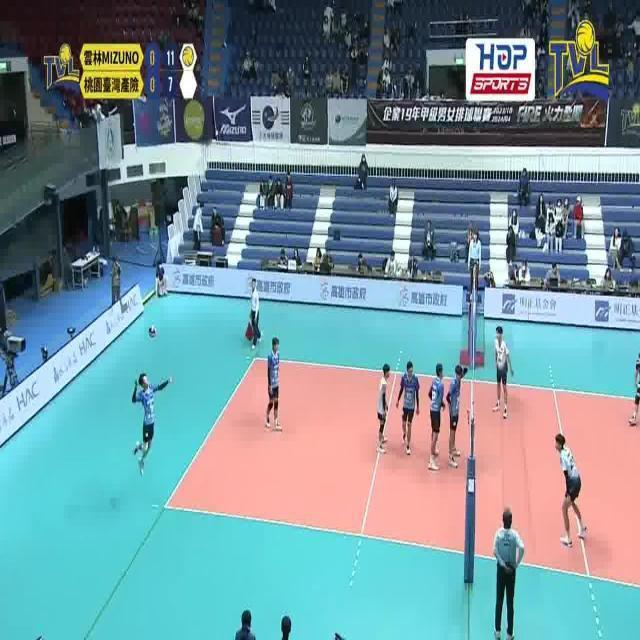volleyball: (148, 327, 156, 338)
